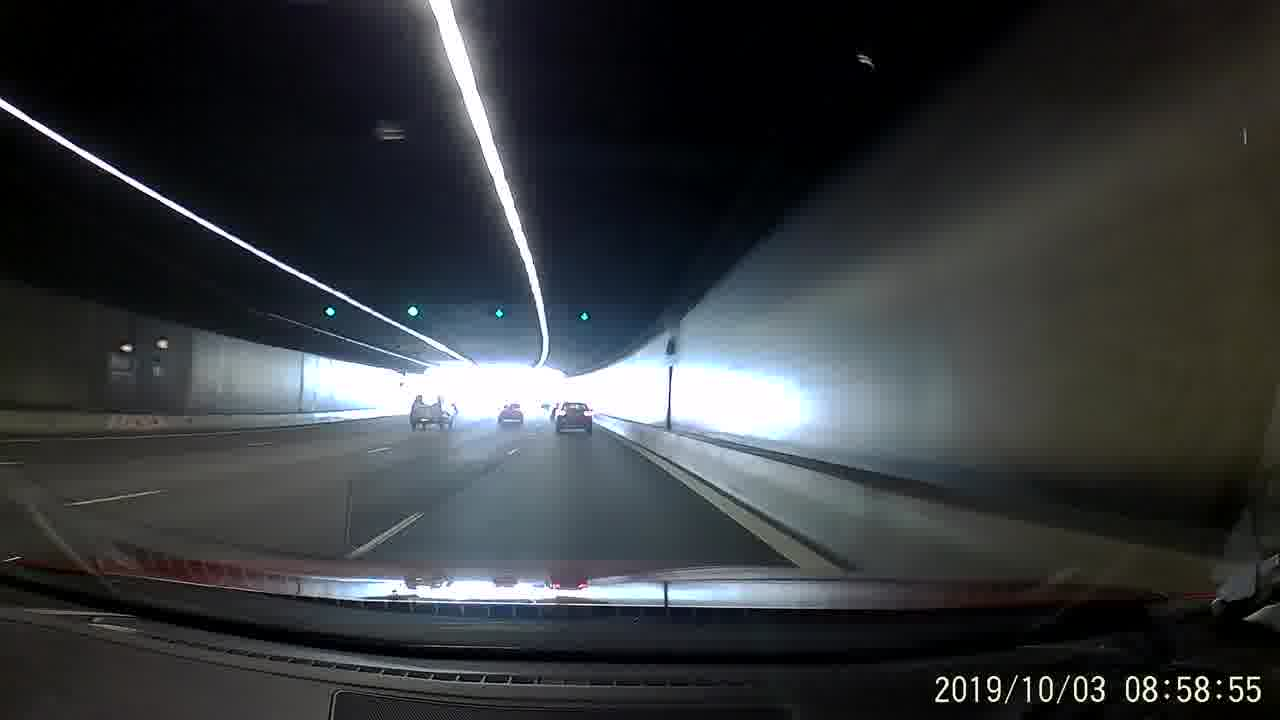car: (552, 398, 596, 437), (497, 401, 526, 426)
